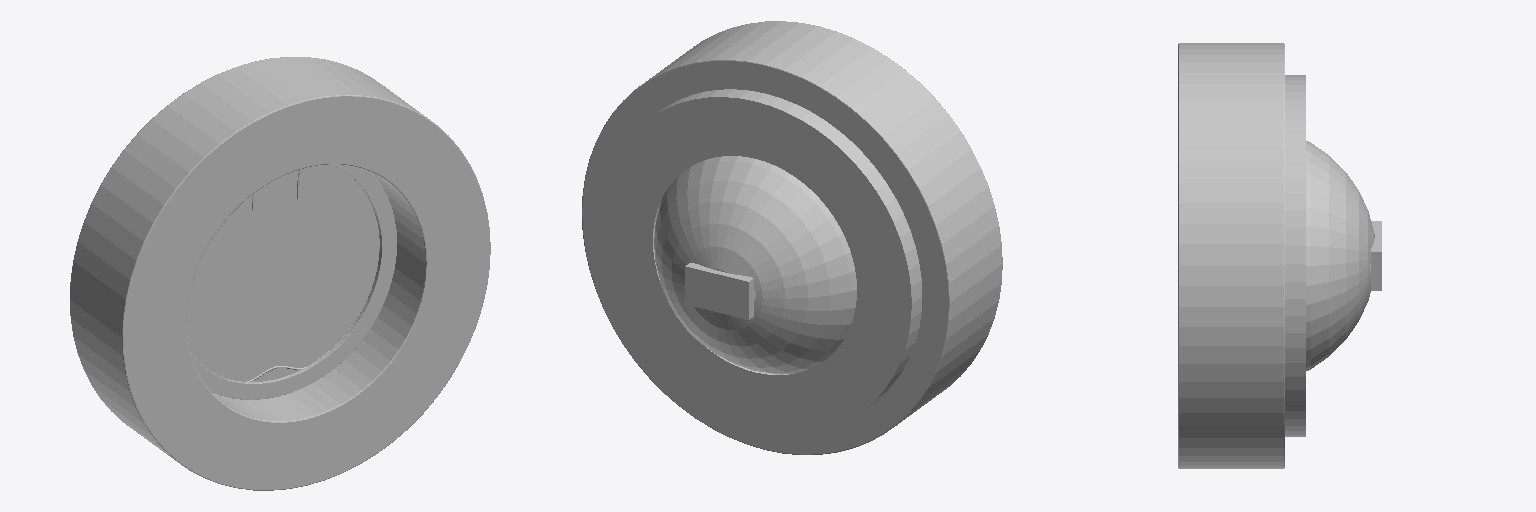
Rendered from light.obj.
3 views of the same model, side by side, from view 1: azimuth 30°, elevation 25°; view 2: azimuth 150°, elevation 25°; view 3: azimuth 270°, elevation 25° (orthographic).
Parts seen in each view (by area): view 1: _915 Cylinder01, _915 Sphere003, _915 Object001; view 2: _915 Cylinder01, _915 Cylinder00, _915 Sphere003, _915 Box001; view 3: _915 Cylinder01, _915 Sphere003, _915 Cylinder00, _915 Box001.
Boxes of the visible parts, <box> form: _915 Cylinder01: <box>70,57,490,490</box>; _915 Sphere003: <box>187,165,379,381</box>; _915 Object001: <box>191,164,396,399</box>; _915 Cylinder01: <box>582,21,1002,454</box>; _915 Cylinder00: <box>598,89,921,433</box>; _915 Sphere003: <box>654,156,856,374</box>; _915 Box001: <box>685,263,753,319</box>; _915 Cylinder01: <box>1178,43,1284,468</box>; _915 Sphere003: <box>1306,141,1374,370</box>; _915 Cylinder00: <box>1285,75,1305,436</box>; _915 Box001: <box>1371,221,1381,290</box>.
Bounding box in the file's own units: 9.99 × 9.99 × 4.78.